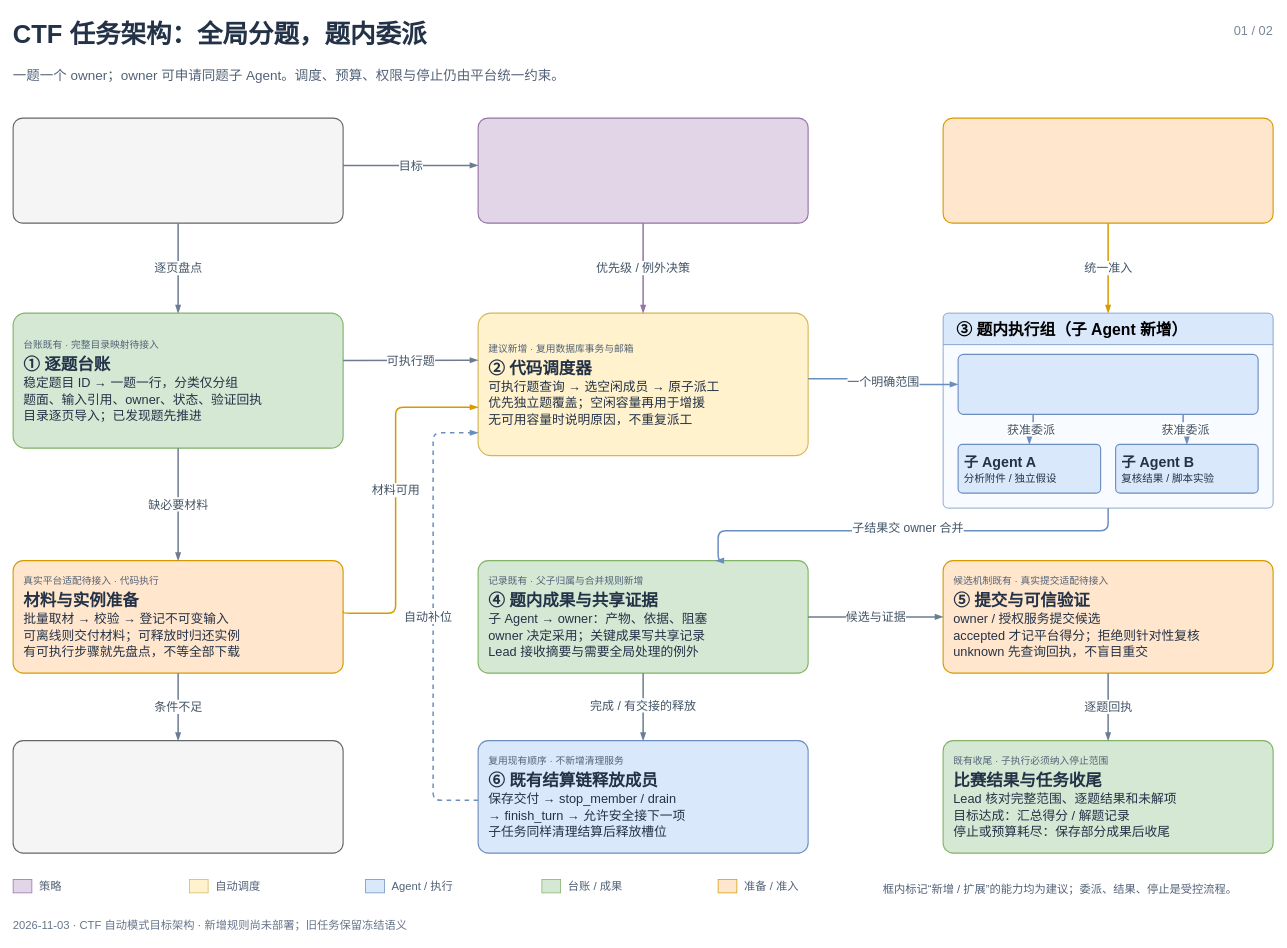
Some shapes in this 1287 by 948 pixel diagram are drawn without their labels. The centre of each missing label's shape, as x and y in pixels:
"1 名 · 既有角色，协调规则扩展 Lead：全局策略与例外 离线优先、重点题优先级、跨题资源取舍 接收汇总与升级；不逐条转发题内消息" belongs at (x=642, y=170).
"入口 · 既有 比赛任务与授权范围 目标题库、题面与初始附件 总预算 / 时限 / 成员上限；允许的靶场" belongs at (x=177, y=170).
"建议扩展 · 名额与请求并发分别计算 统一准入与权限 owner + 子 Agent 共享工作名额 模型 / 命令 / 靶机分别限额；停止优先" belongs at (x=1107, y=170).
"建议规则 · 不将等待当作失败 等待与恢复 材料 / 实例 / 预算 / 限流分别记录 条件恢复才重新评估；不靠模型轮询 子任务没获准：owner 继续本地路线" belongs at (x=177, y=796).
"题目 owner 自主选路线；合并证据；统一交付" belongs at (x=1107, y=384).
